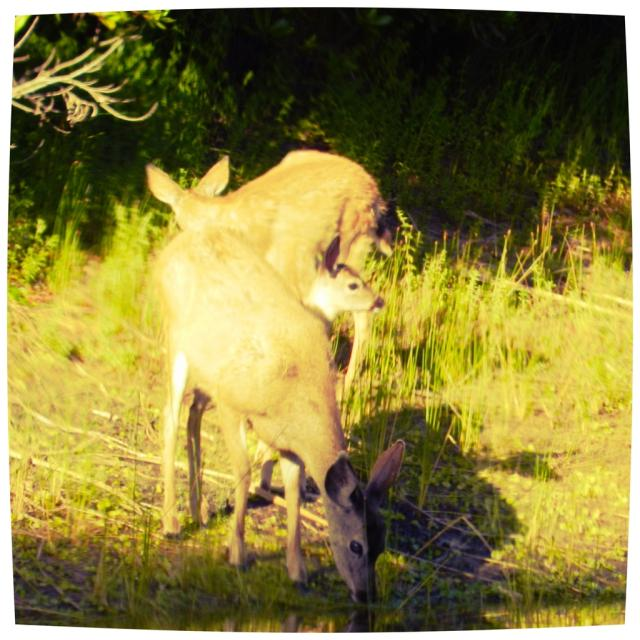Deer: (153, 222, 405, 604), (144, 148, 390, 433)
